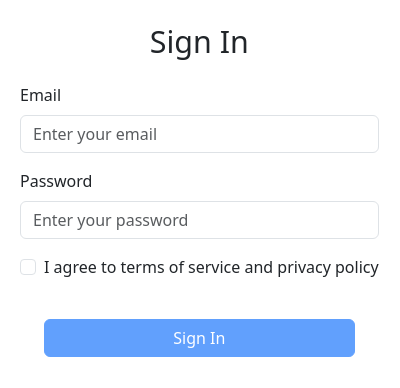
Scenario: Login Form Validation › Tüm koşullar sağlandığında submit butonu tıklanabiliyor
This screenshot has width=400, height=388.
Note: Geçerli email gir
Type "email@email.com" into the field with test id "email-input".
click(200, 134); type("email@email.com")  # box [20,115,379,153]
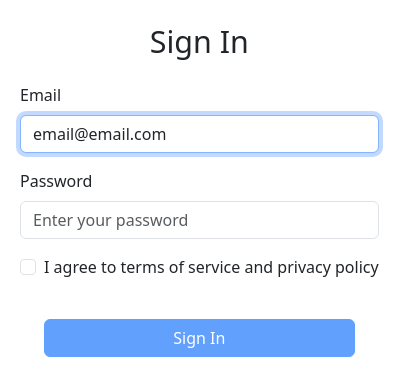
Note: Geçerli şifre gir
Type "P@ssword123" into the password field with test id "password-input".
click(200, 220); type("P@ssword123")  # box [20,201,379,239]
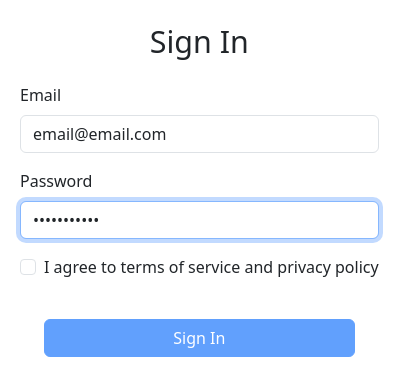
Note: Checkbox seç ve seçimi kaldır
Check the checkbox with test id "terms-checkbox".
click(28, 267)  # box [20,259,36,275]
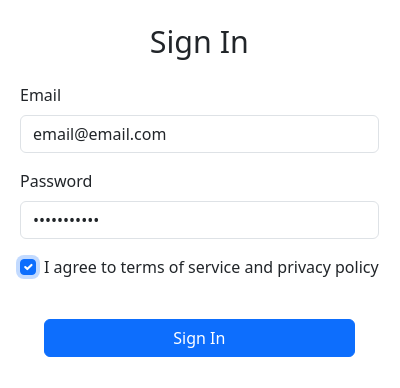
Uncheck the checkbox with test id "terms-checkbox".
click(28, 267)  # box [20,259,36,275]
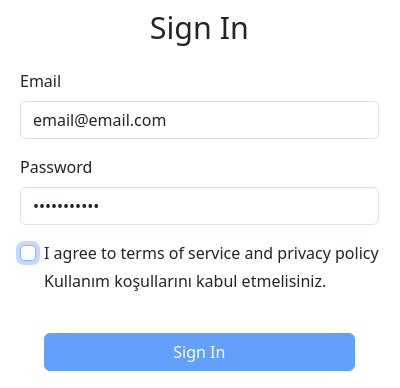
Expected: the text with test id "terms-error" reads "Kullanım koşullarını kabul etmelisiniz.", [44,270,326,292]
